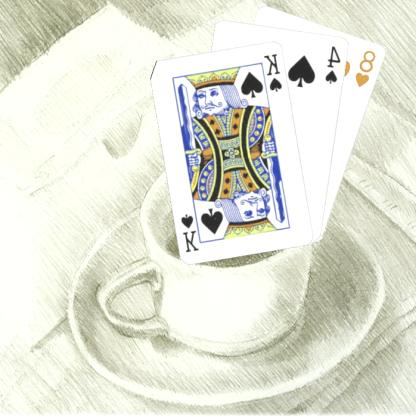4S: (324, 43, 345, 85)
8H: (354, 47, 379, 89)
KS: (180, 206, 206, 253), (263, 50, 285, 93)
